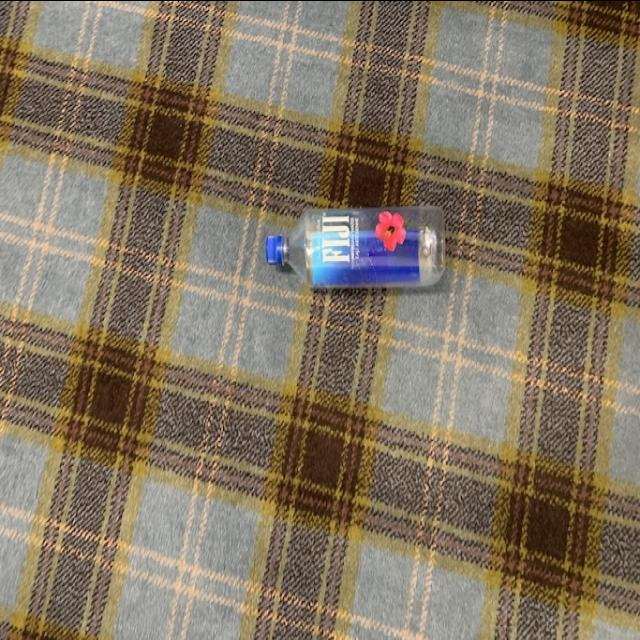PET: (266, 206, 452, 294)
